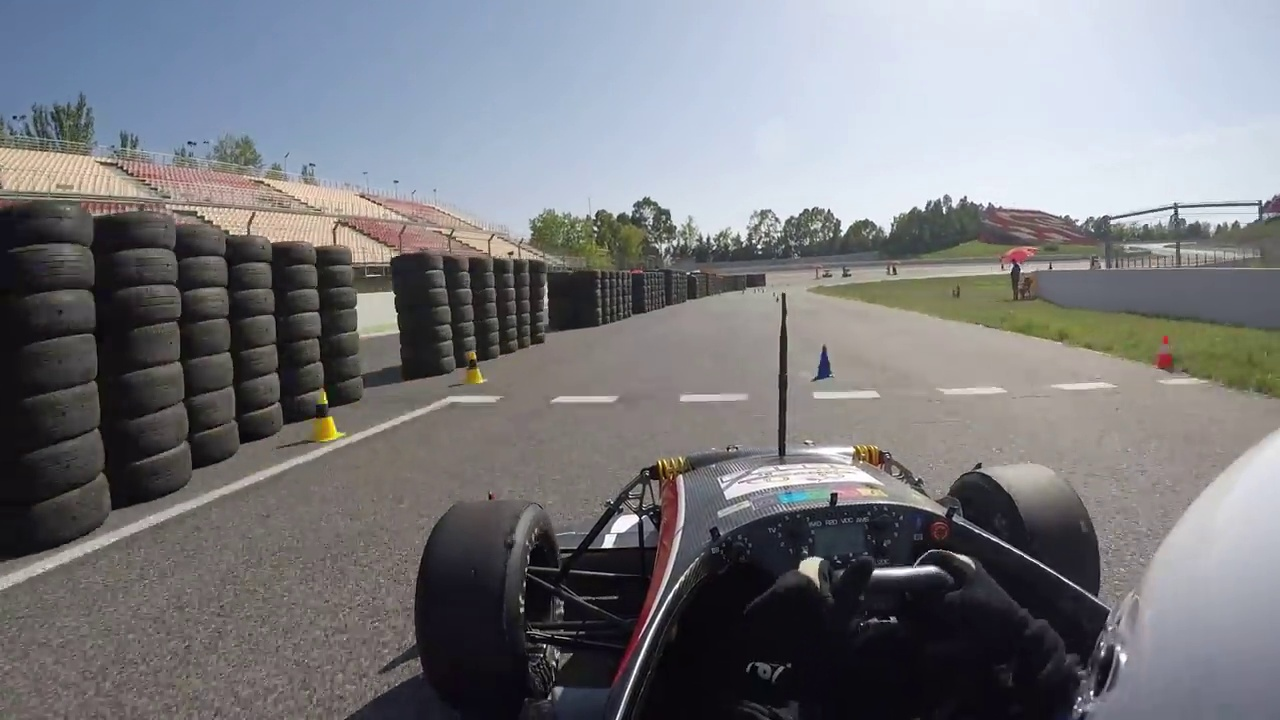Cone: (308, 388, 340, 440), (462, 350, 491, 385), (817, 344, 834, 380)
